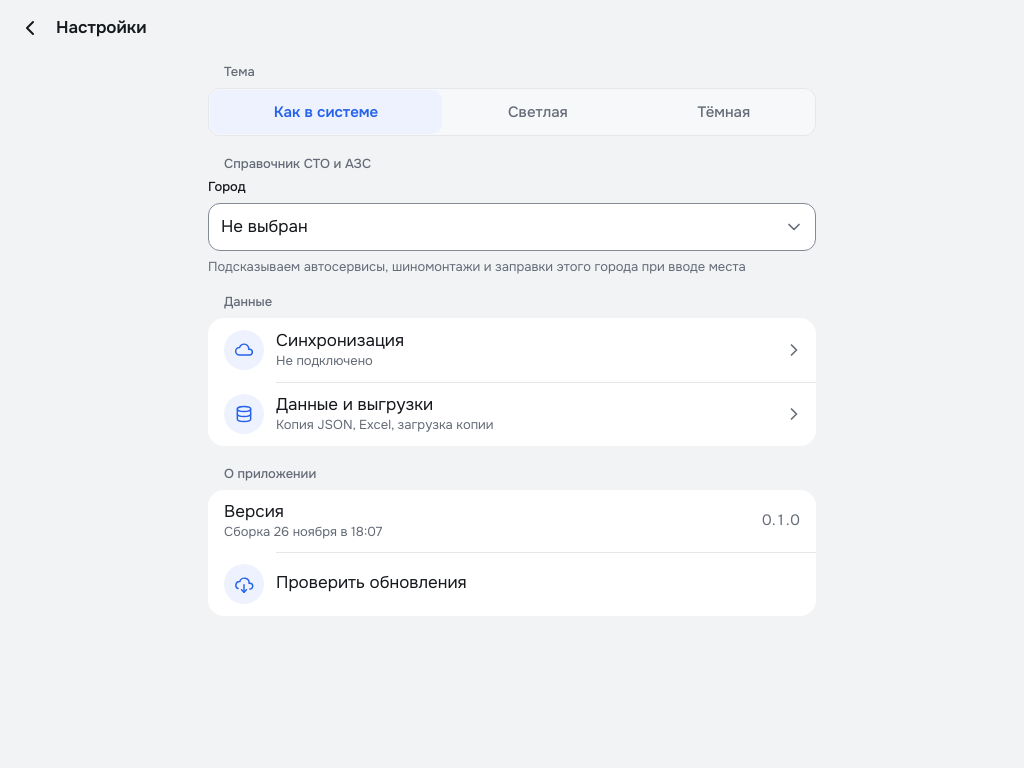
Test: настройки › «Проверить обновления»: последняя версия — так и сказано; нет сети — тоже
The width and height of the screenshot is (1024, 768).
Check: the text "Сборка 26 ноября в 18:07" is shown, box x1=224 y1=523 x2=382 y2=540
Step 1. Click the button "Проверить обновления" → (244, 584), box x1=208 y1=552 x2=816 y2=616
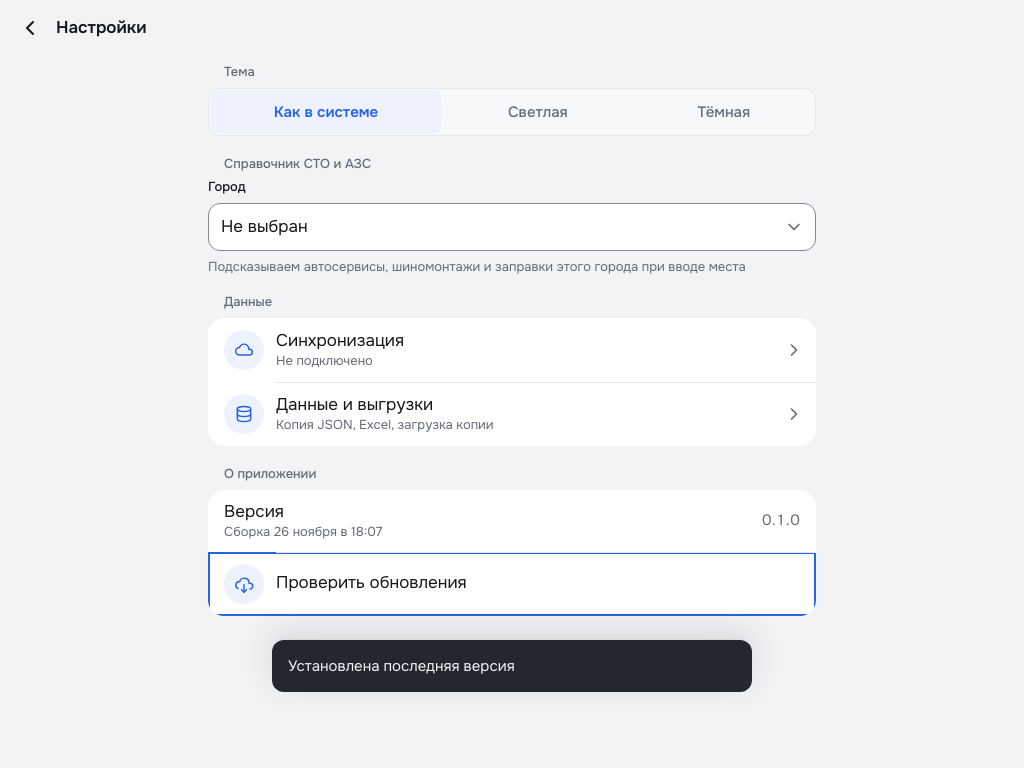
Check: the text "Установлена последняя версия" is shown, box x1=288 y1=656 x2=515 y2=676
Step 2. Click the button "Проверить обновления" → (244, 584), box x1=208 y1=552 x2=816 y2=616
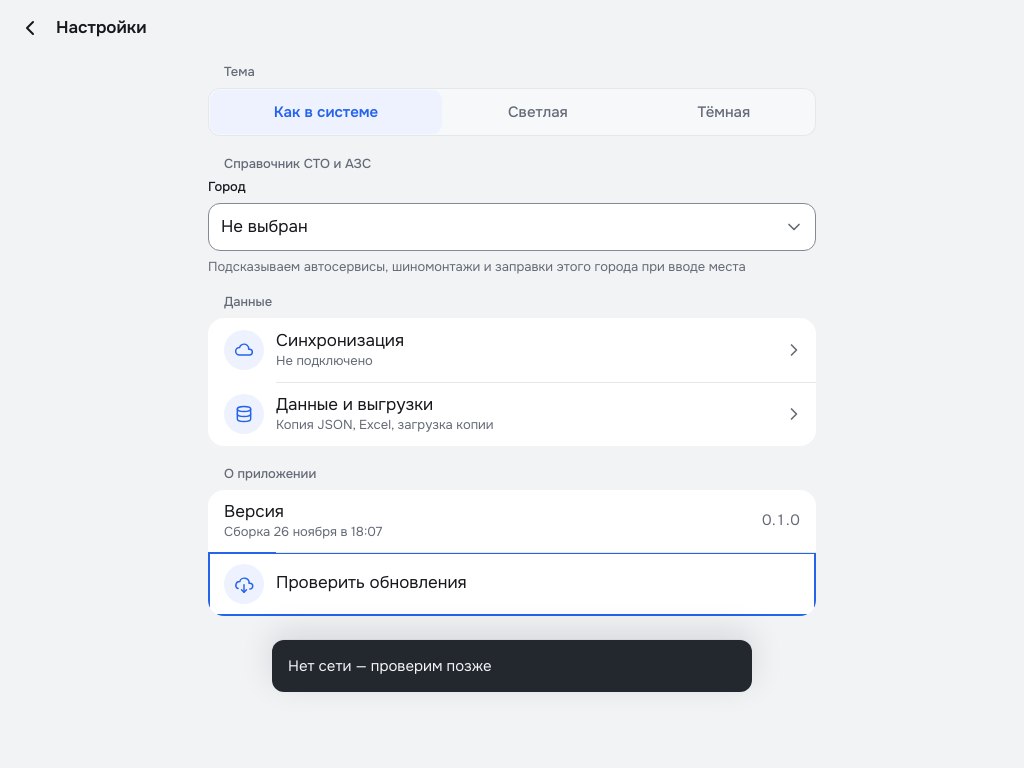
Check: the text "Нет сети — проверим позже" is shown, box x1=288 y1=656 x2=492 y2=676
